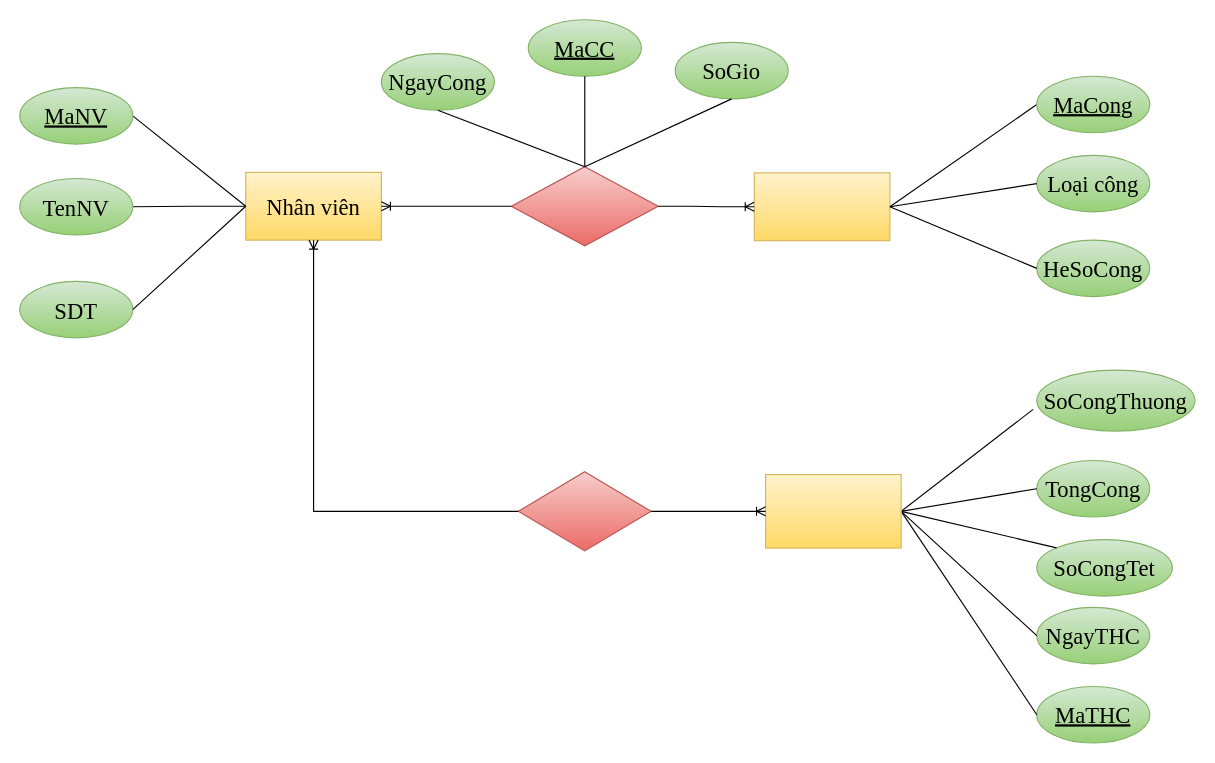
The diagram is 1215 pixels wide and 763 high, and some of its shapes have lost their labels. The centre of each missing label's shape, as x and y in pixels:
"Bảng tổng hợp chấm công" goes at point 832,510.
"Có" goes at point 584,511.
"Công" goes at point 821,206.
"Làm" goes at point 584,206.
